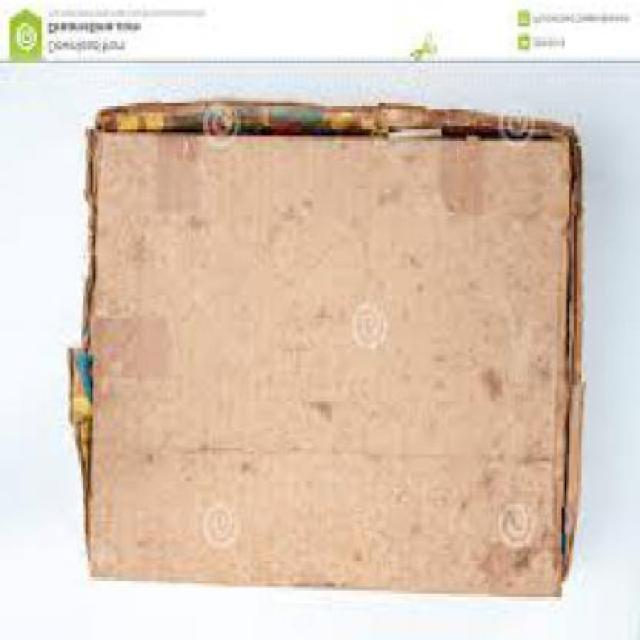CARDBOARD: (68, 109, 582, 600)
